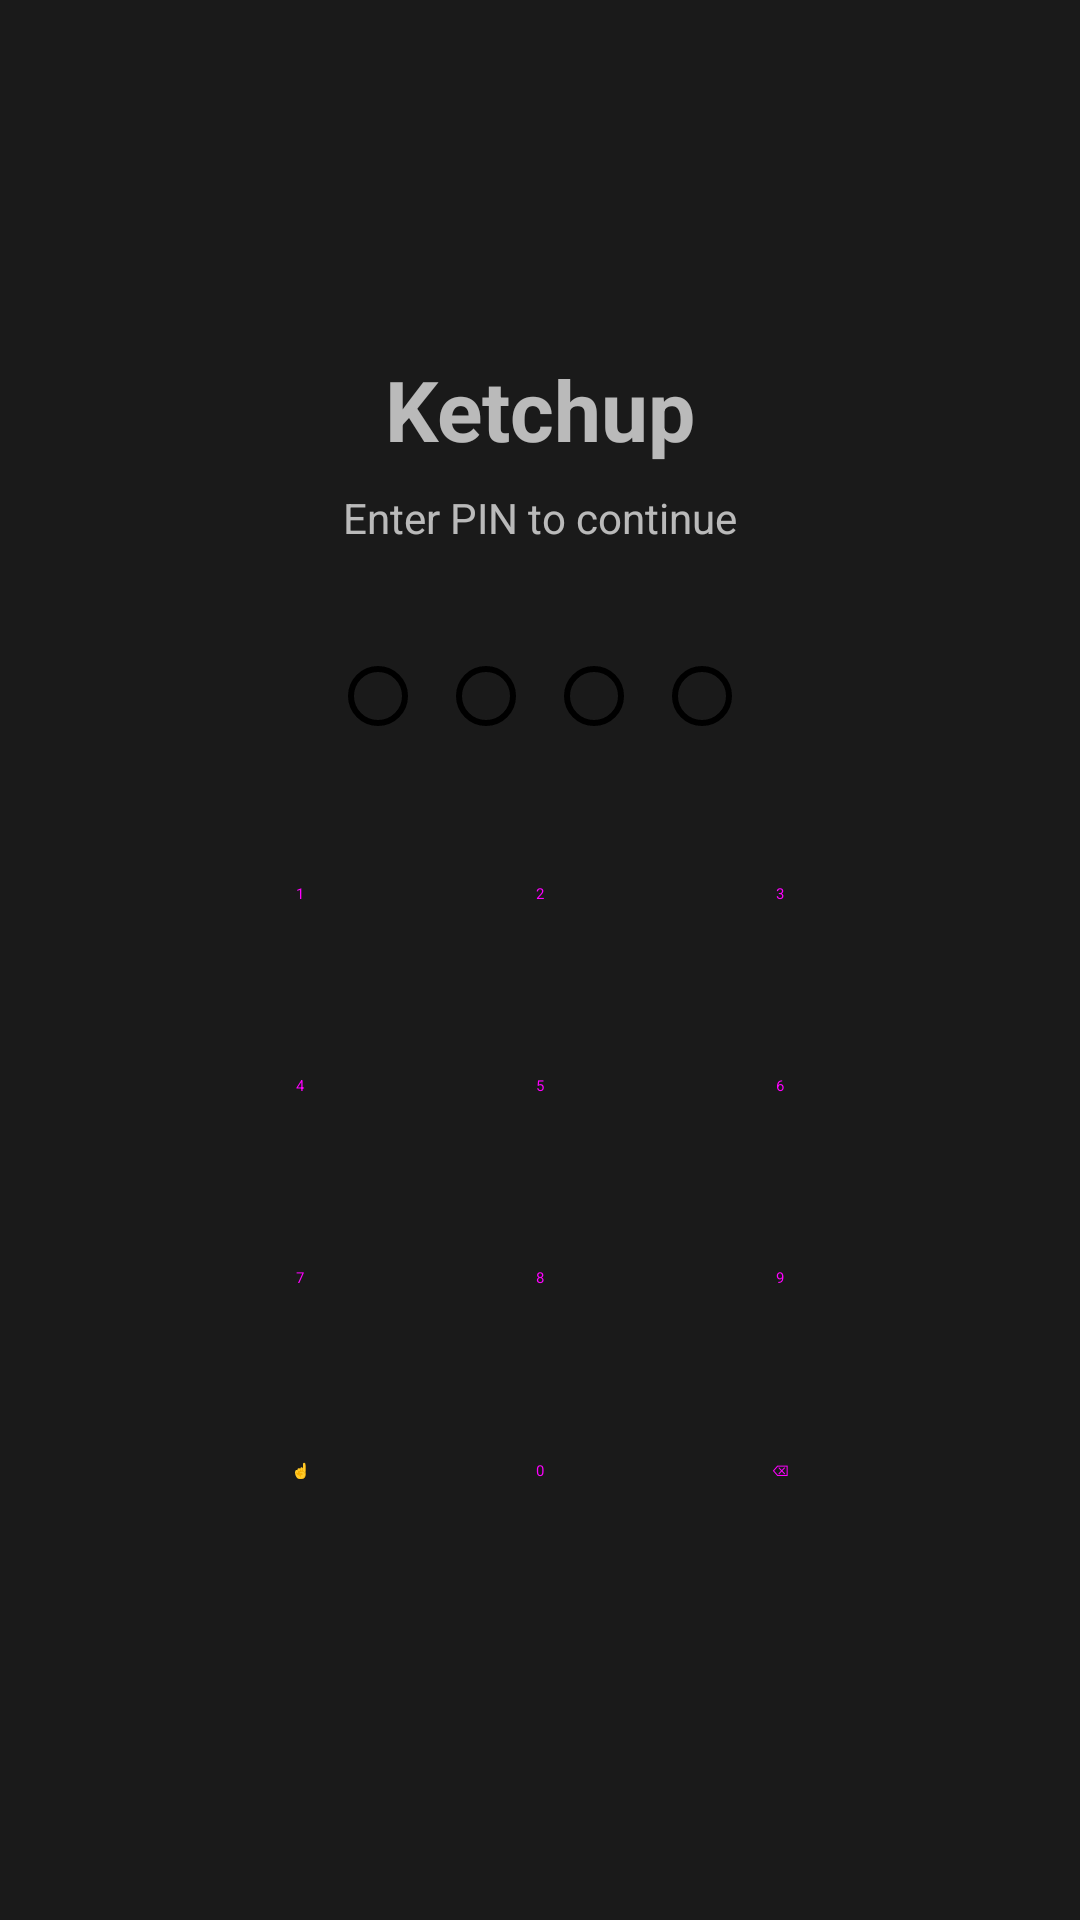

Screen size 1080px x 1920px. Icon name, then its box in pixels as [left=x1, top=y1, right=x2, bottom=y2]:
pin dot: [left=348, top=666, right=408, bottom=726], [left=456, top=666, right=516, bottom=726], [left=564, top=666, right=624, bottom=726], [left=672, top=666, right=732, bottom=726]
